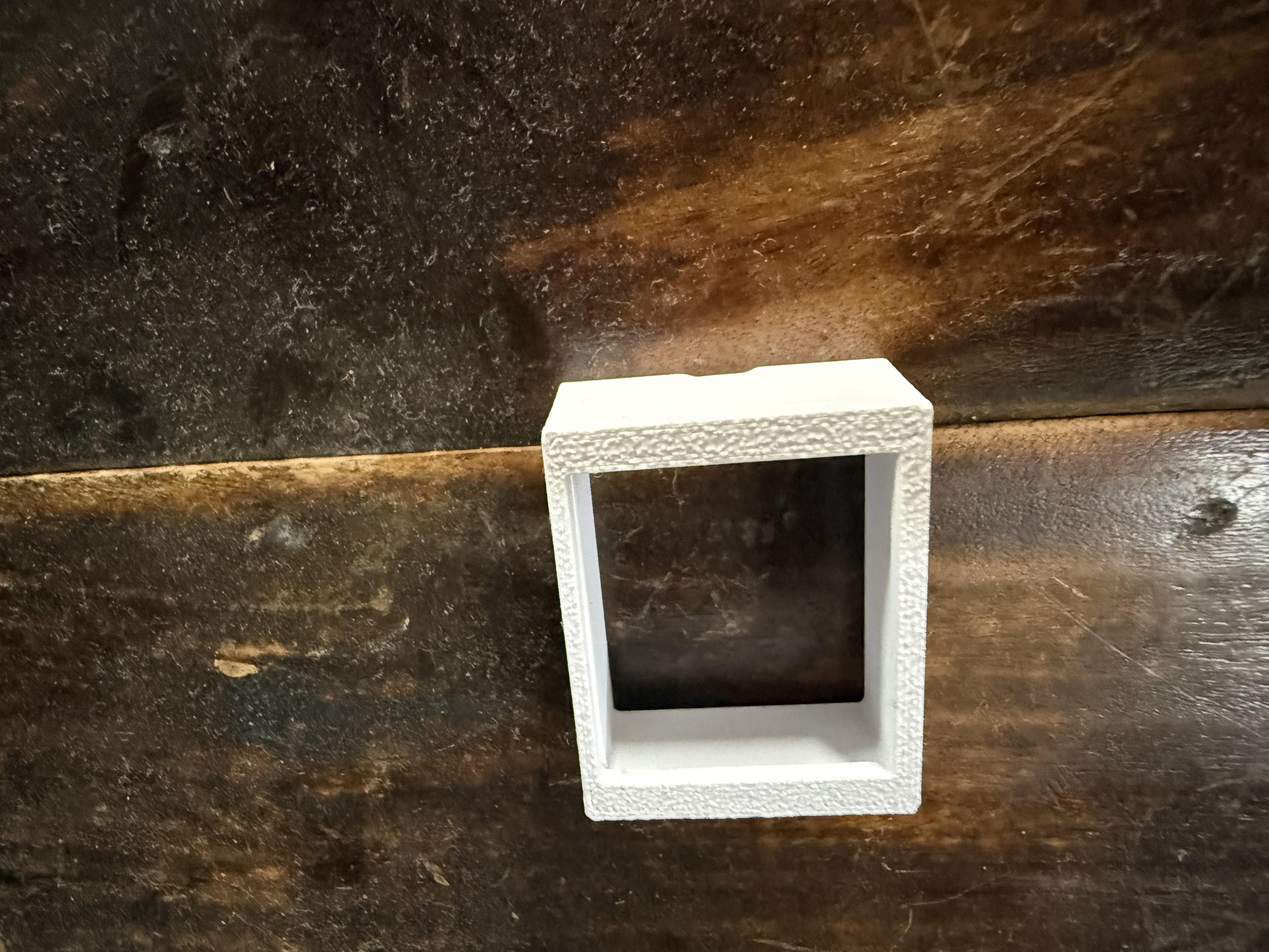enclosure: (540, 358, 934, 823)
